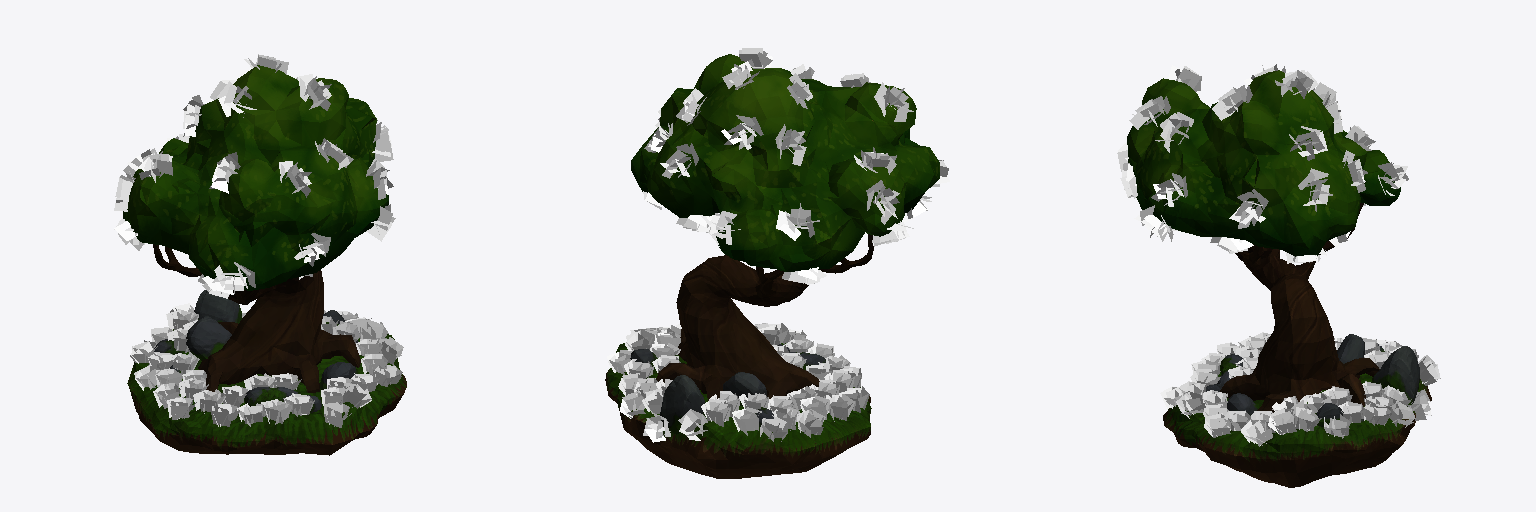
The picture shows the model from 3 angles: view 1: azimuth 30°, elevation 25°; view 2: azimuth 150°, elevation 25°; view 3: azimuth 270°, elevation 25°; orthographic projection.
Parts seen in each view (by area): view 1: KPOHA, Grass, Tree, Ground, LIst, Rocks; view 2: KPOHA, Grass, Tree, LIst, Ground, Rocks; view 3: KPOHA, Grass, Tree, LIst, Ground, Rocks.
Boxes of the visible parts, x1=… form: KPOHA: x1=123, y1=65, x2=388, y2=290; Grass: x1=130, y1=303, x2=403, y2=427; Tree: x1=153, y1=244, x2=360, y2=392; Ground: x1=127, y1=329, x2=406, y2=455; LIst: x1=114, y1=54, x2=395, y2=298; Rocks: x1=154, y1=290, x2=358, y2=412; KPOHA: x1=631, y1=54, x2=939, y2=271; Grass: x1=607, y1=323, x2=869, y2=442; Tree: x1=656, y1=234, x2=873, y2=400; LIst: x1=643, y1=48, x2=949, y2=284; Ground: x1=605, y1=343, x2=871, y2=478; Rocks: x1=630, y1=344, x2=825, y2=434; KPOHA: x1=1127, y1=70, x2=1400, y2=256; Grass: x1=1160, y1=332, x2=1440, y2=446; Tree: x1=1220, y1=203, x2=1379, y2=412; LIst: x1=1117, y1=64, x2=1408, y2=263; Ground: x1=1163, y1=372, x2=1431, y2=487; Rocks: x1=1206, y1=334, x2=1419, y2=426.
Bounding box in the file's own units: 178 × 230 × 177.
Materials: 5 (3 with a texture image).